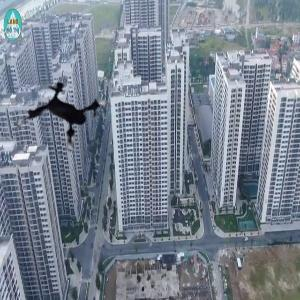drone: (11, 67, 120, 176)
